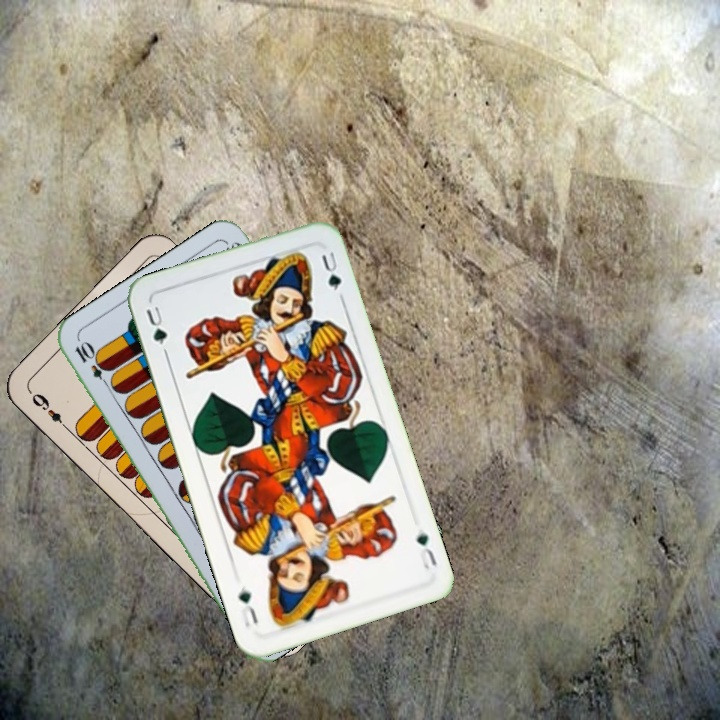E10: (71, 338, 115, 391)
E9: (27, 389, 72, 434)
GU: (142, 302, 170, 348), (412, 528, 439, 572)
